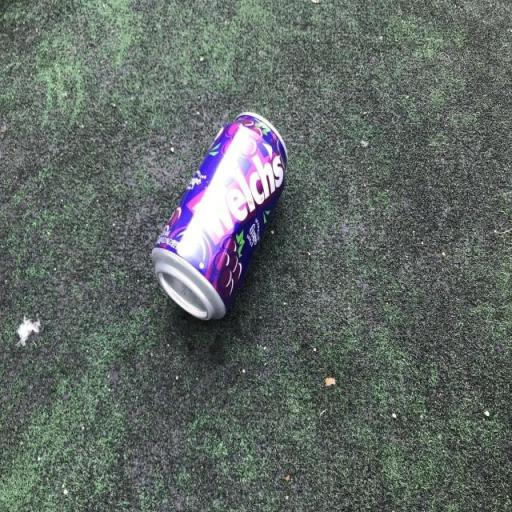metal: (146, 98, 295, 345)
